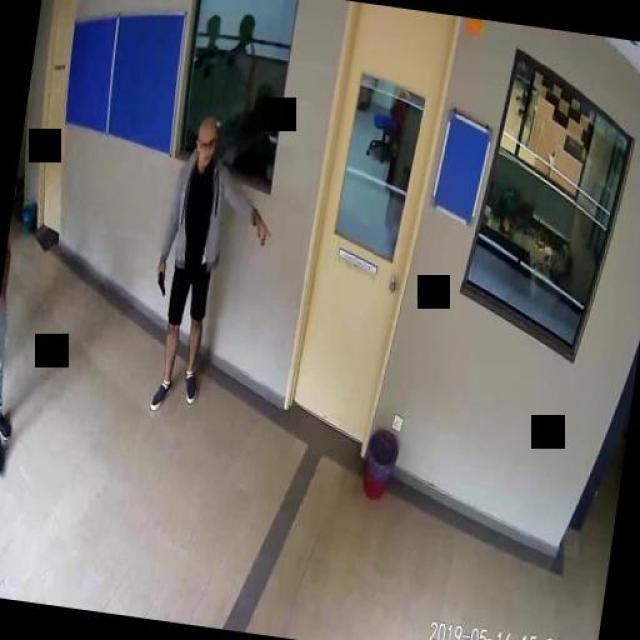gun: (154, 264, 168, 294)
